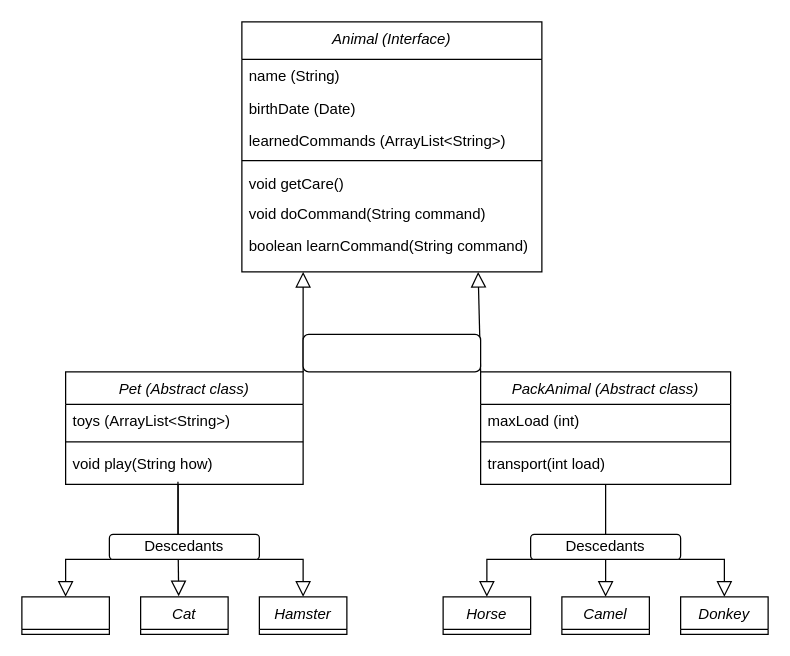
This 790x656 diagram has some shape labels left out. Each missing label, with the centre of its shape:
"Dog" belongs at [65,615].
"Implementations" belongs at [391,352].
